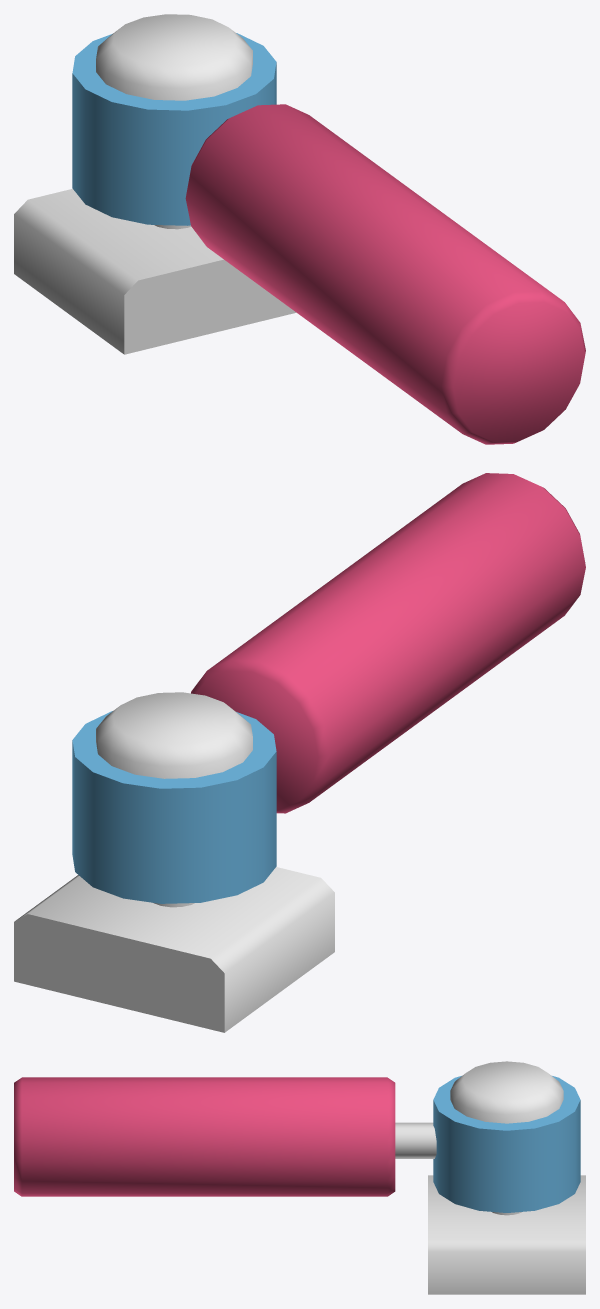
File: HORIZONTAL STICK.fbx
3 renders of one model, top to bottom at view 1: azimuth 30°, elevation 25°; view 2: azimuth 150°, elevation 25°; view 3: azimuth 270°, elevation 25°, orthographic. The views are drawn at different scales.
Parts seen in each view (by area): view 1: Cylinder.006, Cylinder.002; view 2: Cylinder.006, Cylinder.002; view 3: Cylinder.006, Cylinder.002.
Part boxes in pixels (left/top/right/bottom): Cylinder.006: left=72, top=14, right=585, bottom=444; Cylinder.002: left=14, top=189, right=296, bottom=354; Cylinder.006: left=72, top=473, right=585, bottom=907; Cylinder.002: left=14, top=867, right=334, bottom=1032; Cylinder.006: left=14, top=1061, right=580, bottom=1215; Cylinder.002: left=428, top=1175, right=585, bottom=1294.
Bounding box in the file's own units: 90.31 × 102 × 297.
